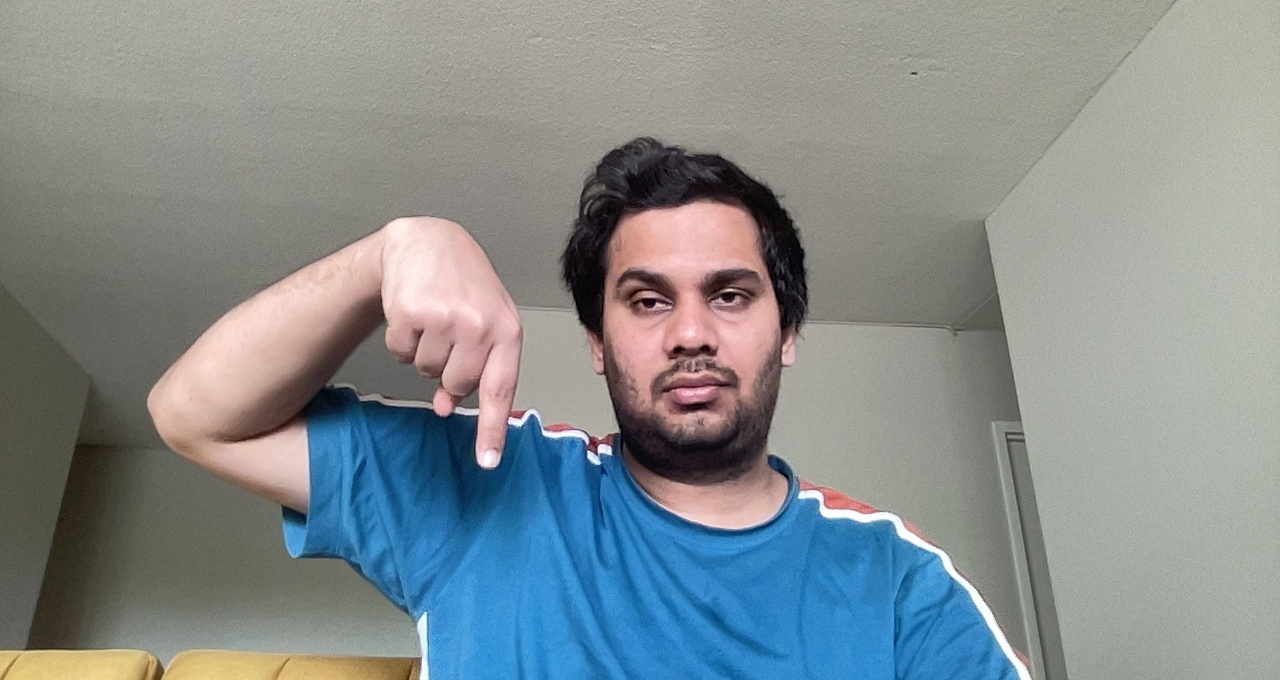fingerdown: (372, 213, 526, 471)
